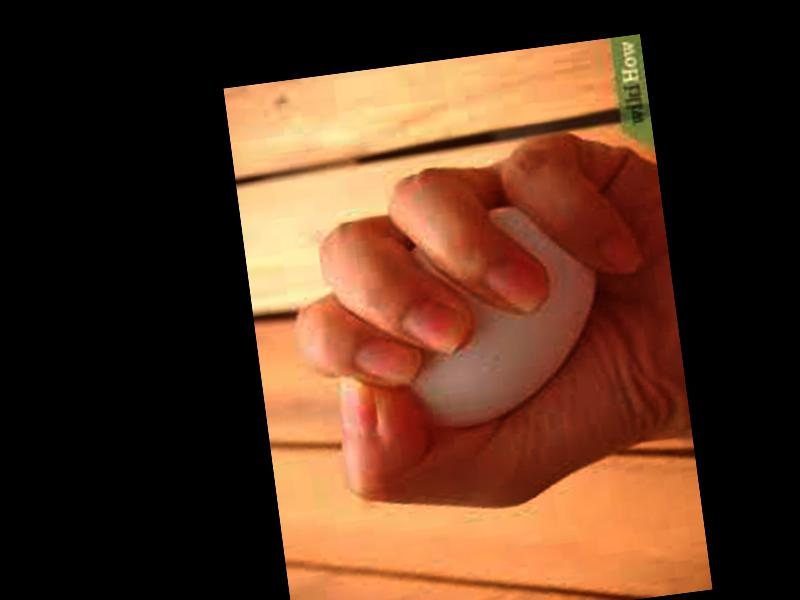Eggs: (366, 192, 612, 435)
